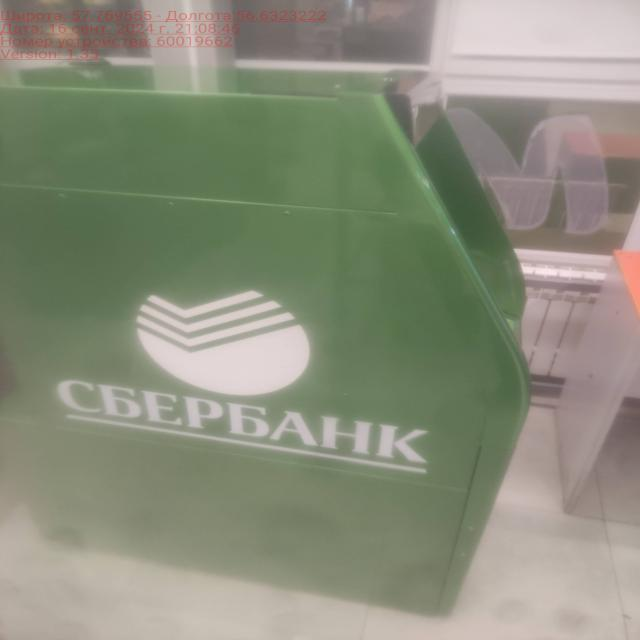bank: (0, 67, 541, 619)
